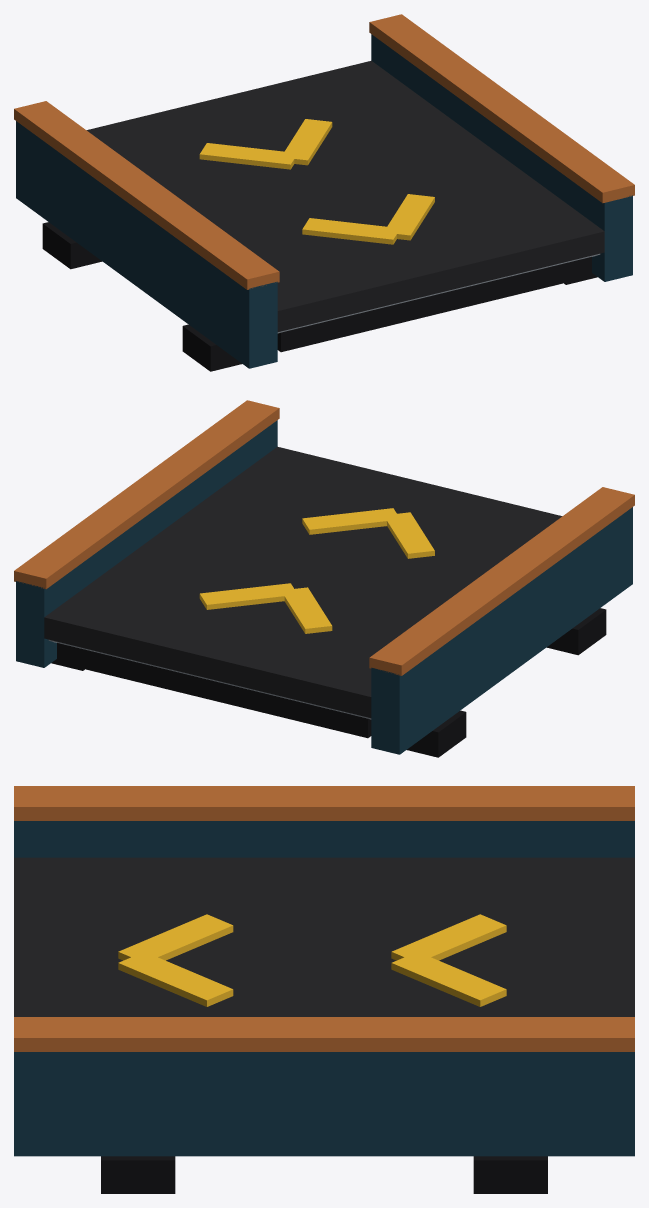
File: belt_straight.obj
3 views of the same model, one above another, from view 1: azimuth 30°, elevation 25°; view 2: azimuth 150°, elevation 25°; view 3: azimuth 270°, elevation 25° (orthographic). The views are drawn at different scales.
Parts seen in each view (by area): view 1: Belt, Frame, Arrows; view 2: Belt, Frame, Arrows; view 3: Frame, Belt, Arrows.
Part boxes in pixels (x1=…): Belt: x1=86, y1=60, x2=604, y2=352; Frame: x1=14, y1=14, x2=634, y2=371; Arrows: x1=199, y1=119, x2=434, y2=244; Belt: x1=44, y1=446, x2=562, y2=738; Frame: x1=14, y1=400, x2=634, y2=757; Arrows: x1=199, y1=508, x2=434, y2=633; Frame: x1=14, y1=786, x2=634, y2=1193; Belt: x1=14, y1=857, x2=634, y2=1016; Arrows: x1=118, y1=914, x2=506, y2=1006.
Size of the model in its own units: 0.98 by 0.2725 by 1.
